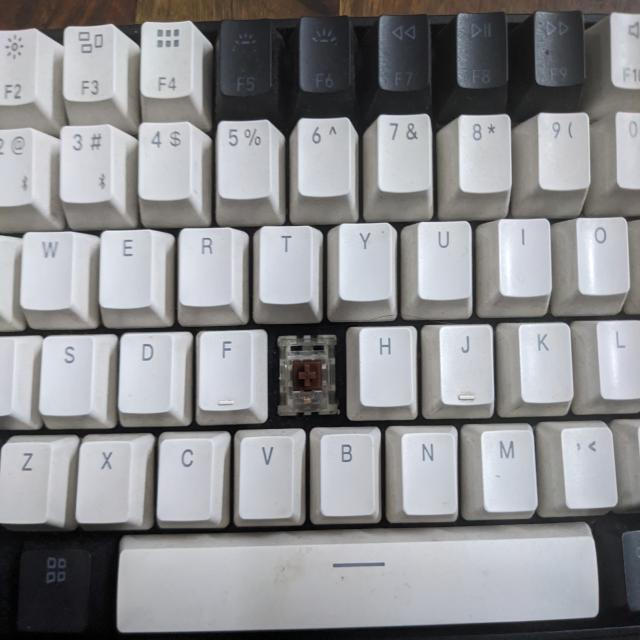C: (276, 332, 340, 418)
